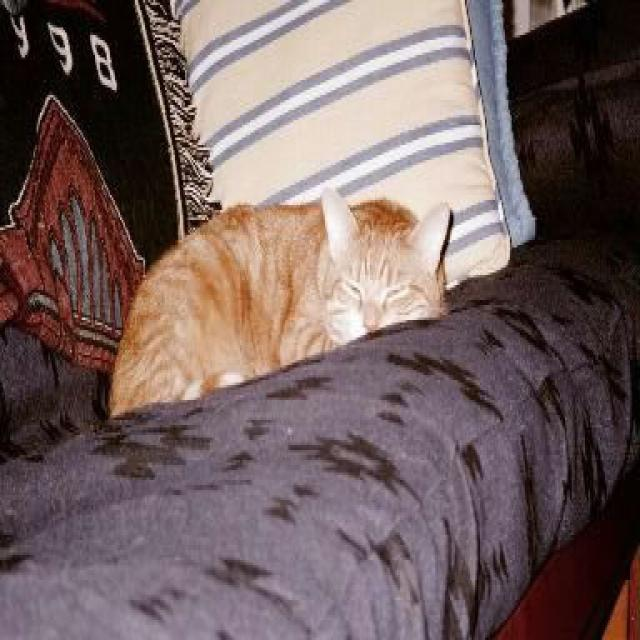cat: (111, 189, 451, 419)
sofa: (1, 1, 639, 638)
